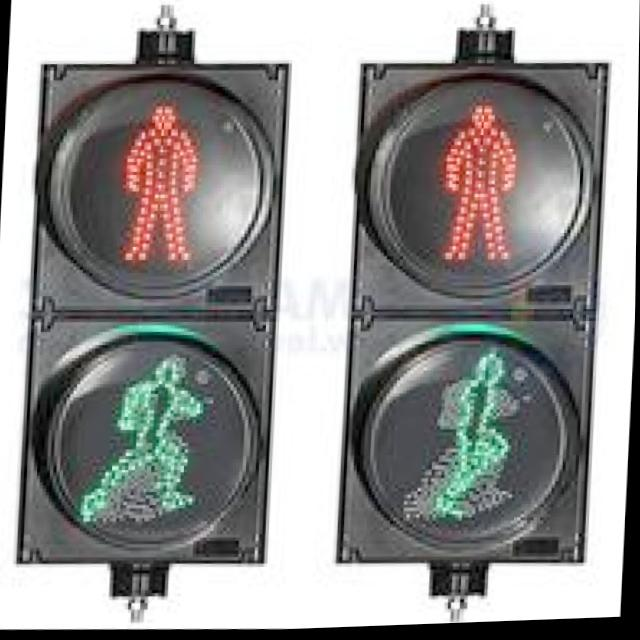green_light: (0, 280, 270, 586), (317, 303, 596, 593)
red_light: (308, 35, 603, 353), (10, 24, 279, 315)
